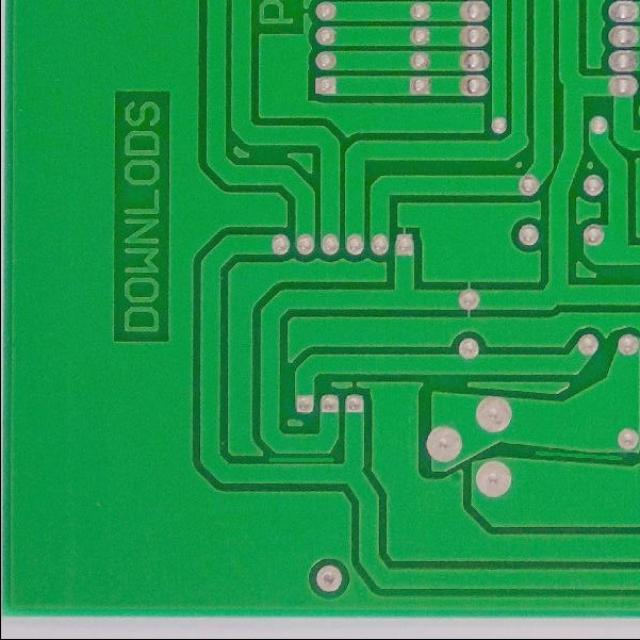Spurious_Cooper: (532, 445, 628, 462), (267, 452, 338, 466)
